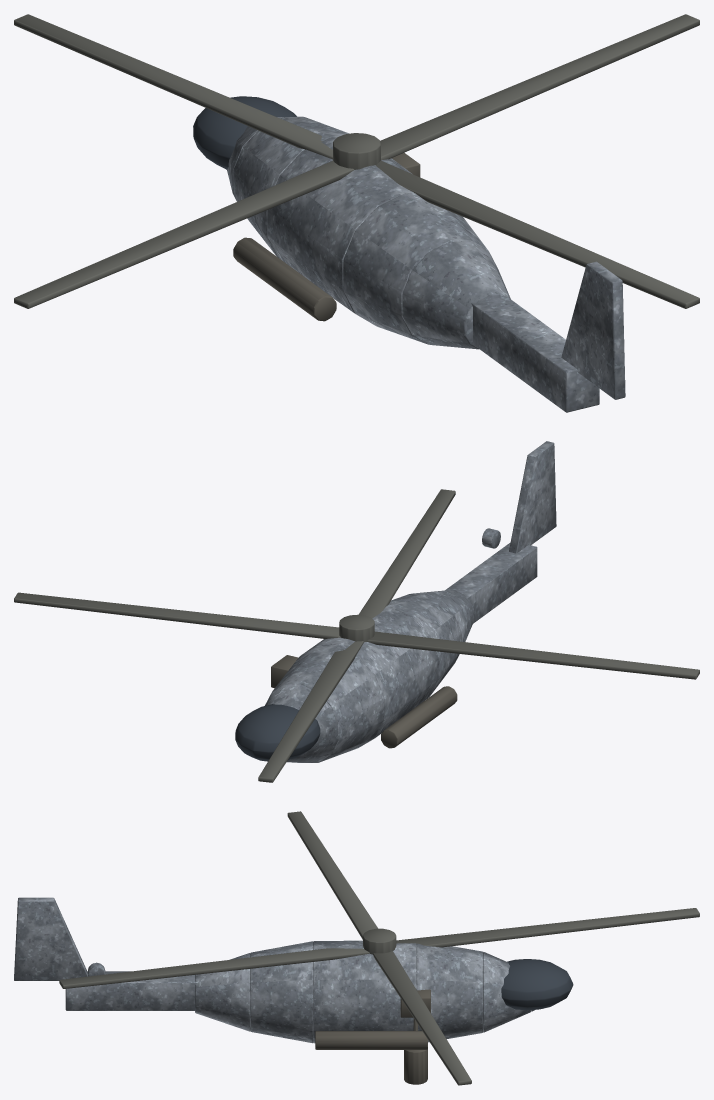
File: hel_e2_us_asw_LOD0.glb
The picture shows the model from 3 angles, top to bottom: view 1: azimuth 30°, elevation 25°; view 2: azimuth 150°, elevation 25°; view 3: azimuth 270°, elevation 25°; orthographic projection. The views are drawn at different scales.
Visible parts, largest first — view 1: hel_e2_us_asw_LOD0_body, hel_e2_us_asw_LOD0_gun, hel_e2_us_asw_LOD0_deck, hel_e2_us_asw_LOD0_glass; view 2: hel_e2_us_asw_LOD0_body, hel_e2_us_asw_LOD0_gun, hel_e2_us_asw_LOD0_glass, hel_e2_us_asw_LOD0_deck; view 3: hel_e2_us_asw_LOD0_body, hel_e2_us_asw_LOD0_gun, hel_e2_us_asw_LOD0_deck, hel_e2_us_asw_LOD0_glass.
Part boxes in pixels (left/top/right/bottom): hel_e2_us_asw_LOD0_body: left=227, top=116, right=625, bottom=412; hel_e2_us_asw_LOD0_gun: left=14, top=14, right=699, bottom=308; hel_e2_us_asw_LOD0_deck: left=233, top=152, right=420, bottom=321; hel_e2_us_asw_LOD0_glass: left=193, top=96, right=296, bottom=169; hel_e2_us_asw_LOD0_body: left=265, top=441, right=556, bottom=762; hel_e2_us_asw_LOD0_gun: left=14, top=489, right=699, bottom=782; hel_e2_us_asw_LOD0_glass: left=235, top=704, right=320, bottom=761; hel_e2_us_asw_LOD0_deck: left=271, top=655, right=457, bottom=748; hel_e2_us_asw_LOD0_body: left=14, top=897, right=535, bottom=1043; hel_e2_us_asw_LOD0_gun: left=59, top=811, right=699, bottom=1085; hel_e2_us_asw_LOD0_deck: left=315, top=989, right=430, bottom=1084; hel_e2_us_asw_LOD0_glass: left=501, top=959, right=573, bottom=1010.
Size of the model in its own units: 15.92 by 4.35 by 17.05.
4 materials, 1 textured.
